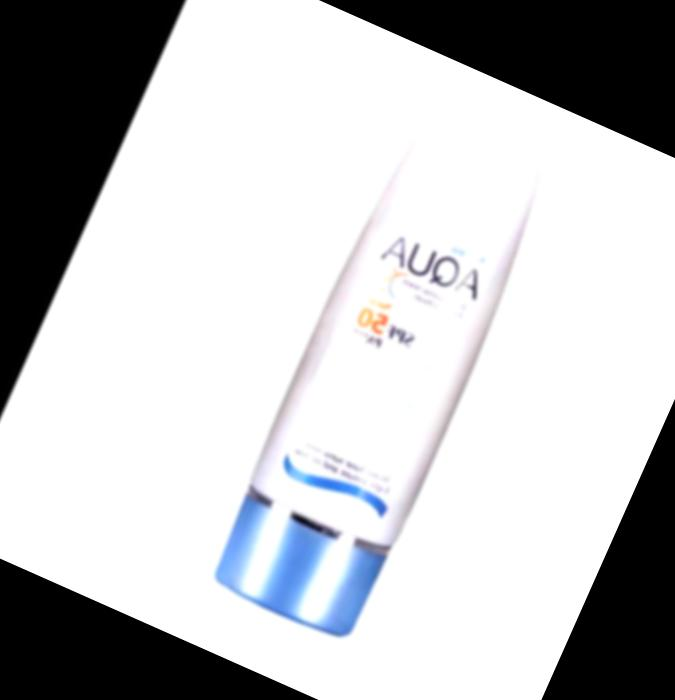cosmetic: (197, 105, 560, 644)
